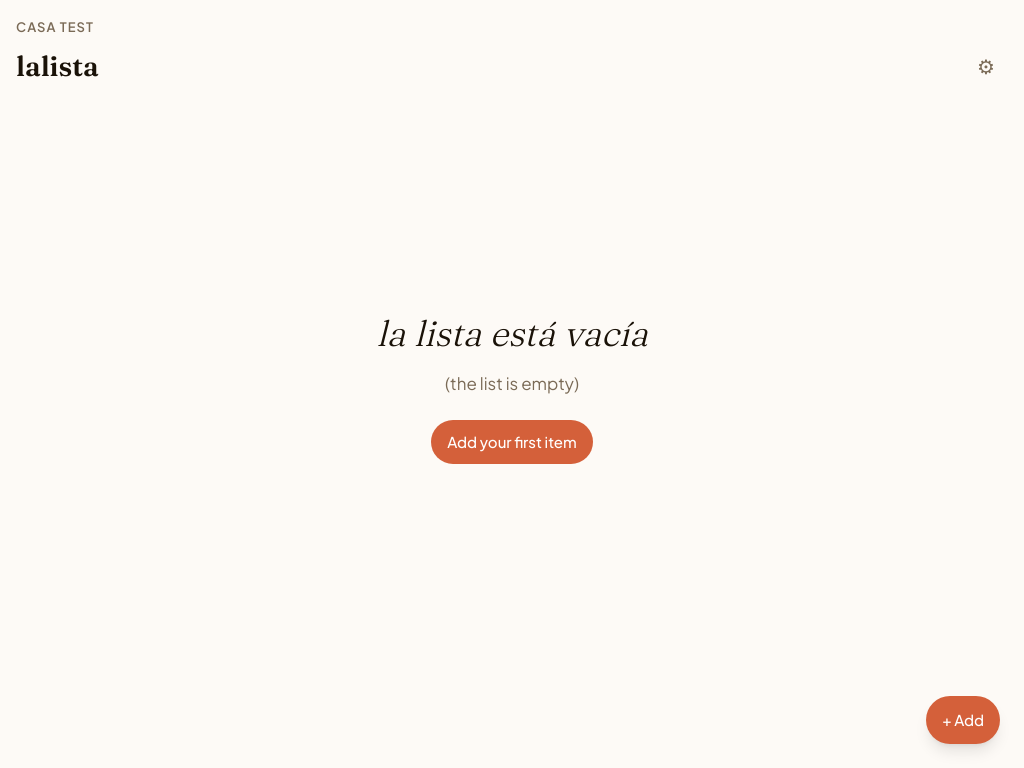
Test: <ListClient> › opens the add-item sheet when the FAB is tapped
Expected: the element with test id "empty-list-state" is shown, [376, 311, 648, 464]
What coordinates should you click on to do the following:
click the button with aria-label "add item to lalista"
I would click on:
 (963, 720)
Its box is [926, 696, 1000, 744].
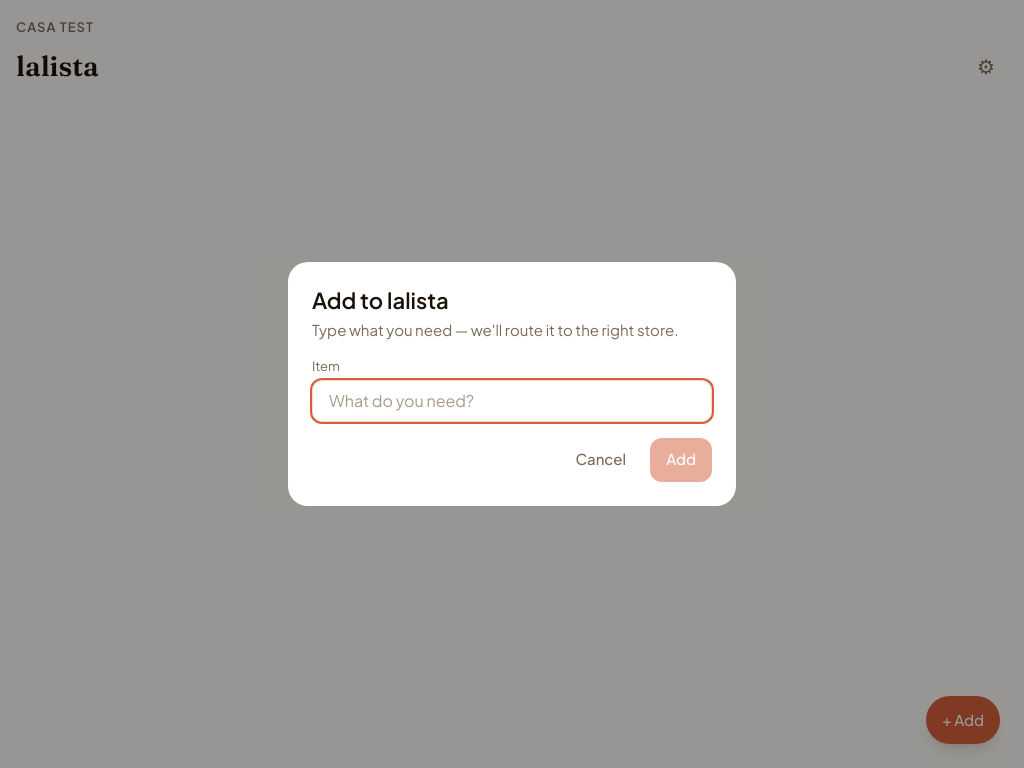
Expected: the dialog "Add to lalista" is shown
